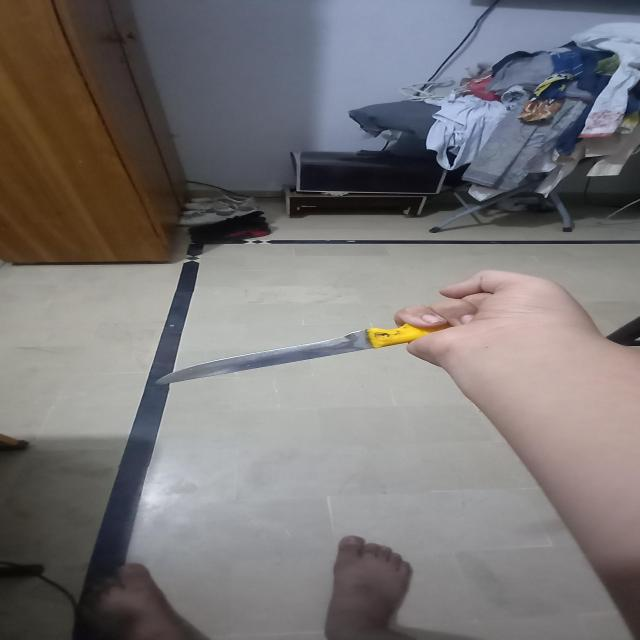Knife: (154, 321, 456, 386)
Person: (397, 269, 640, 640)
